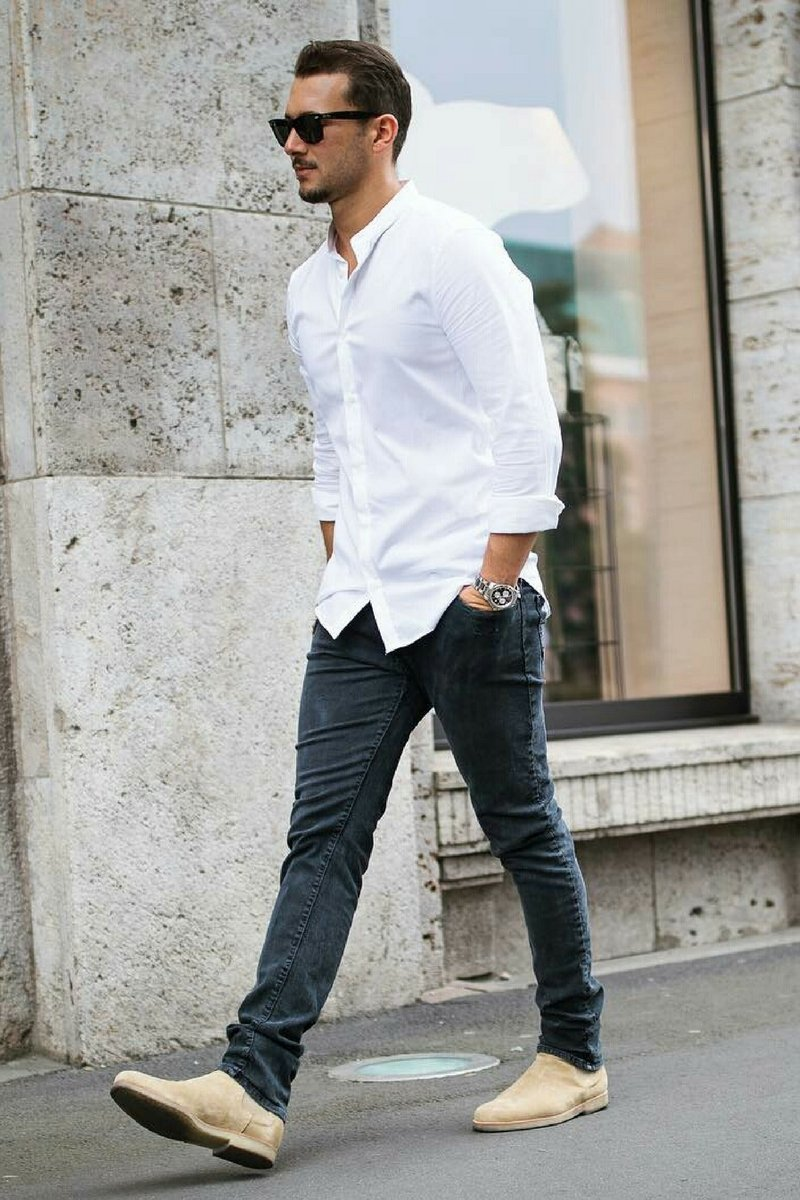NOTSAFE: (272, 32, 525, 599)
